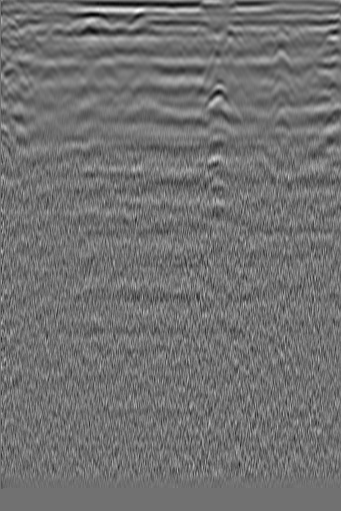가스: (194, 84, 239, 118)
상수: (1, 40, 37, 73)
오수: (270, 24, 290, 44)
우수: (146, 26, 198, 59)
